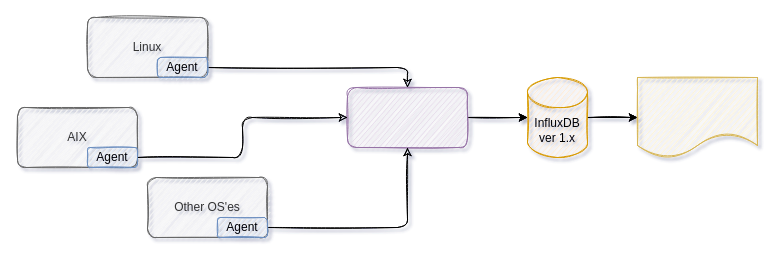
This 781x261 diagram has some shape labels left out. The centre of each missing label's shape, as x and y in pixels:
"Grafana Dashboards & Alerting" goes at [697,117].
"Sysmon Server" goes at [407,117].
